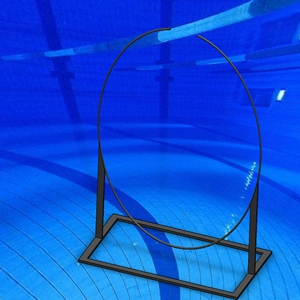circle: (77, 26, 274, 299)
